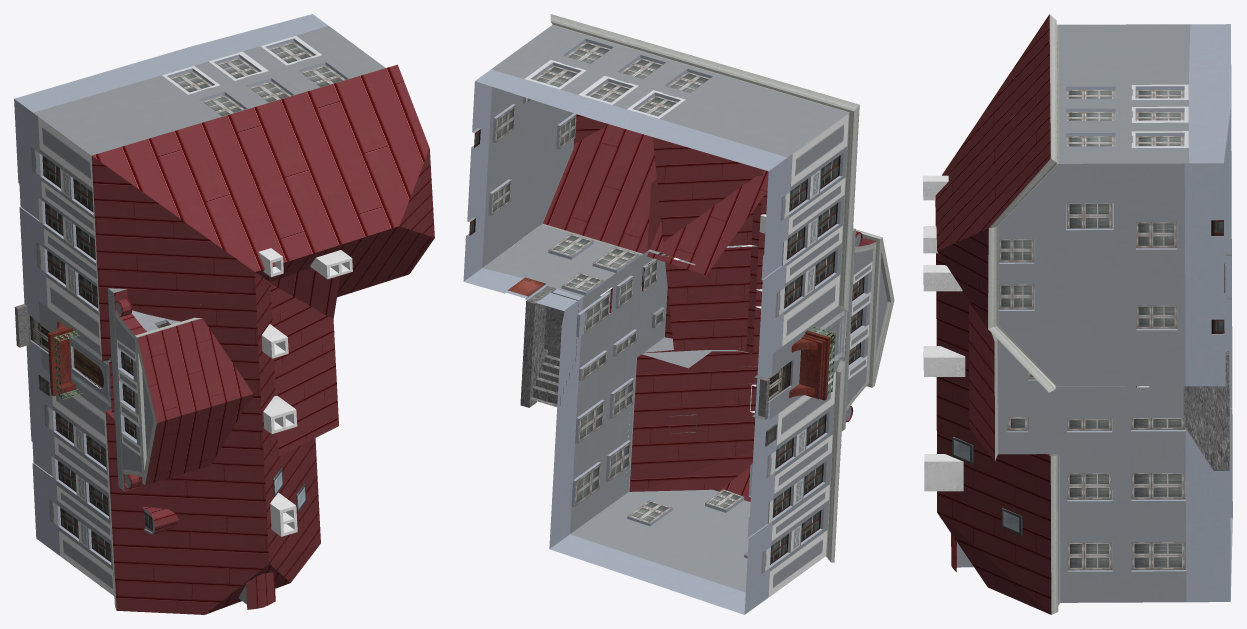
Rendered from Uus10.obj.
The picture shows the model from 3 angles, left to right: view 1: azimuth 30°, elevation 25°; view 2: azimuth 150°, elevation 25°; view 3: azimuth 270°, elevation 25°; orthographic projection. The views are drawn at different scales.
Parts seen in each view (by area): view 1: Uus_10; view 2: Uus_10; view 3: Uus_10.
Part boxes in pixels (<box>): Uus_10: <box>14,14,434,614</box>; Uus_10: <box>463,14,894,614</box>; Uus_10: <box>923,14,1232,614</box>.
Size of the model in its own units: 19.03 by 26.8 by 14.61.
